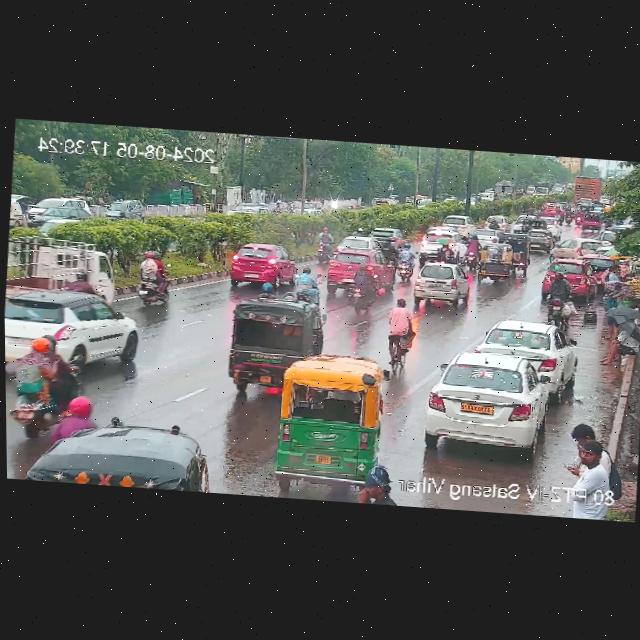car: (264, 345, 402, 504), (421, 348, 553, 451), (39, 418, 215, 492), (4, 288, 140, 370), (222, 295, 326, 370), (479, 318, 575, 380), (7, 285, 141, 328), (226, 239, 299, 290), (408, 261, 470, 309), (328, 247, 393, 290), (542, 256, 597, 298), (548, 232, 601, 258), (480, 242, 513, 282), (498, 232, 530, 268), (524, 228, 553, 254), (417, 226, 442, 254), (366, 226, 403, 242), (452, 215, 475, 238), (545, 214, 564, 236), (520, 216, 545, 232), (498, 214, 514, 229)
motorcycle: (6, 321, 72, 427), (41, 391, 102, 440), (128, 248, 176, 308), (382, 293, 412, 371), (348, 260, 380, 317), (540, 272, 578, 315), (292, 263, 321, 298), (314, 223, 334, 263), (395, 242, 414, 278), (464, 233, 479, 267), (380, 237, 402, 260), (434, 241, 456, 260), (488, 216, 498, 228), (356, 226, 363, 233)
person: (600, 329, 640, 370), (575, 438, 613, 480), (355, 469, 392, 504), (600, 265, 623, 299), (572, 418, 603, 442), (258, 282, 275, 298)
truck: (9, 237, 119, 300)
